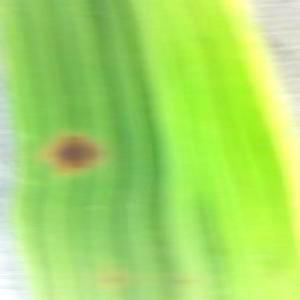0 BrownSpot: (34, 123, 115, 184)
